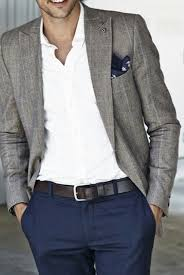F_M_suit jacket: (3, 6, 184, 216)
F_belt: (27, 173, 147, 205)
F_dress pants: (20, 192, 158, 275)
